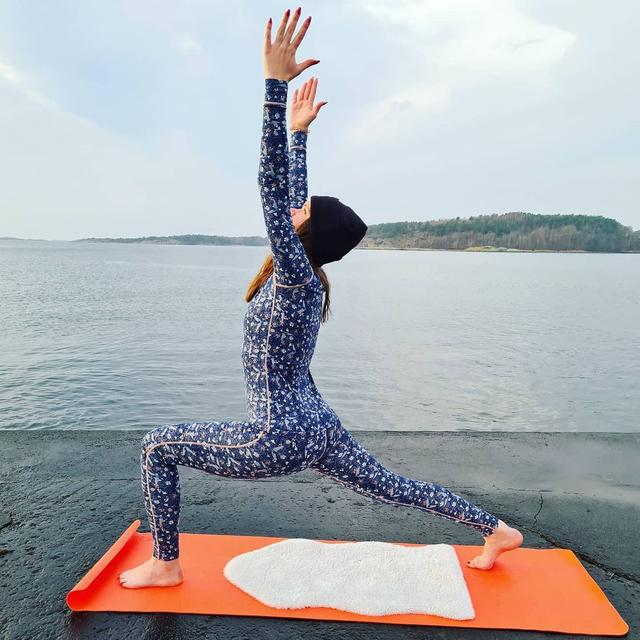Warrior_I: (114, 4, 547, 593)
